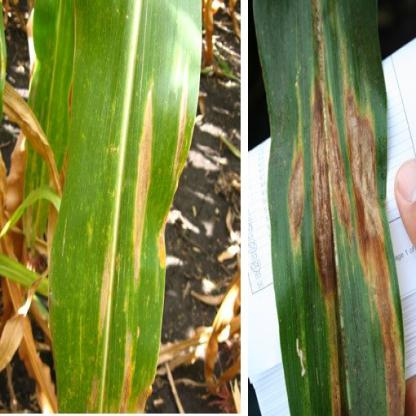corn leaf blight: (47, 2, 202, 415), (259, 6, 402, 415)
